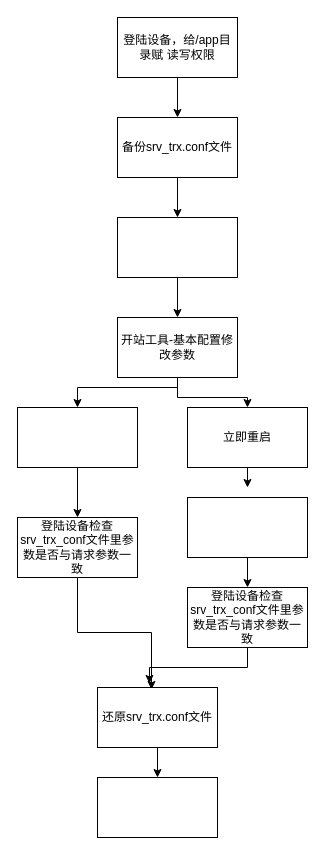
Some shapes in this 325 by 855 pixel diagram are drawn without their labels. The shapes that lost their labels are listed below. From the top down, each one's centre as x and y in pixels, then its label:
At point (177, 247): "给/app目录md5加密".
At point (77, 437): "稍后重启".
At point (247, 527): "设备重启后".
At point (157, 807): "重启设备".
